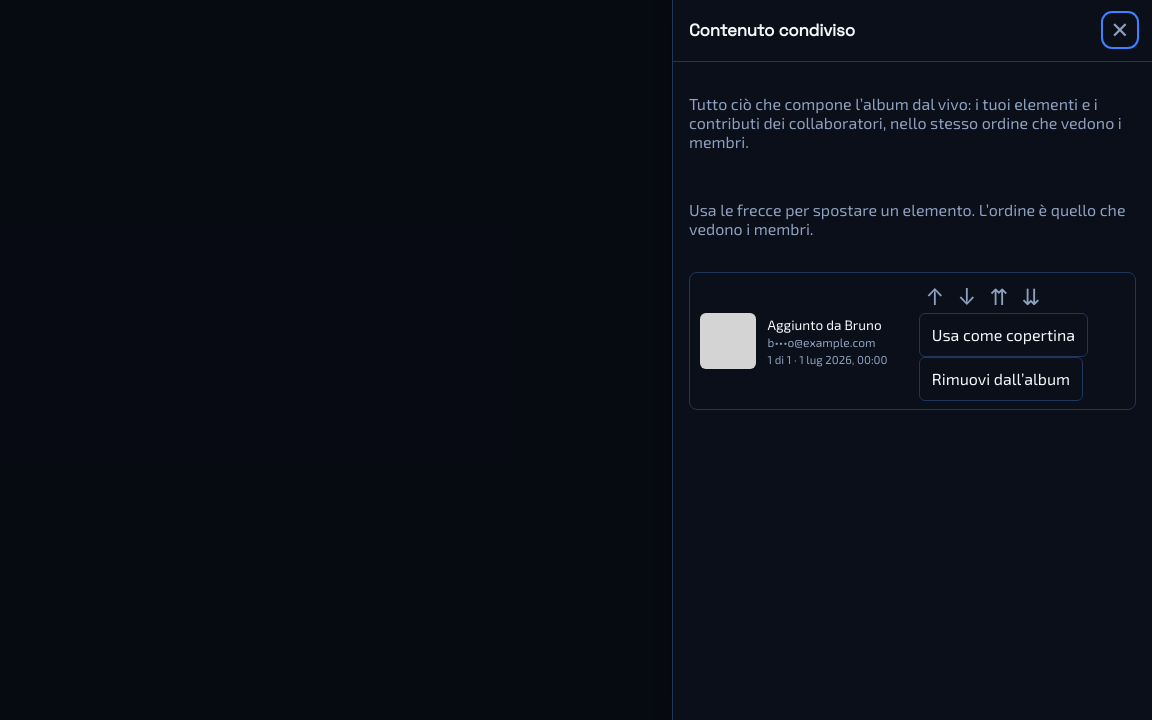
Test: AlbumSharedContentPanel — owner moderation › removes an item and refreshes
Click the button with test id "album-content-remove".
click(1001, 379)  # box [919, 357, 1083, 401]
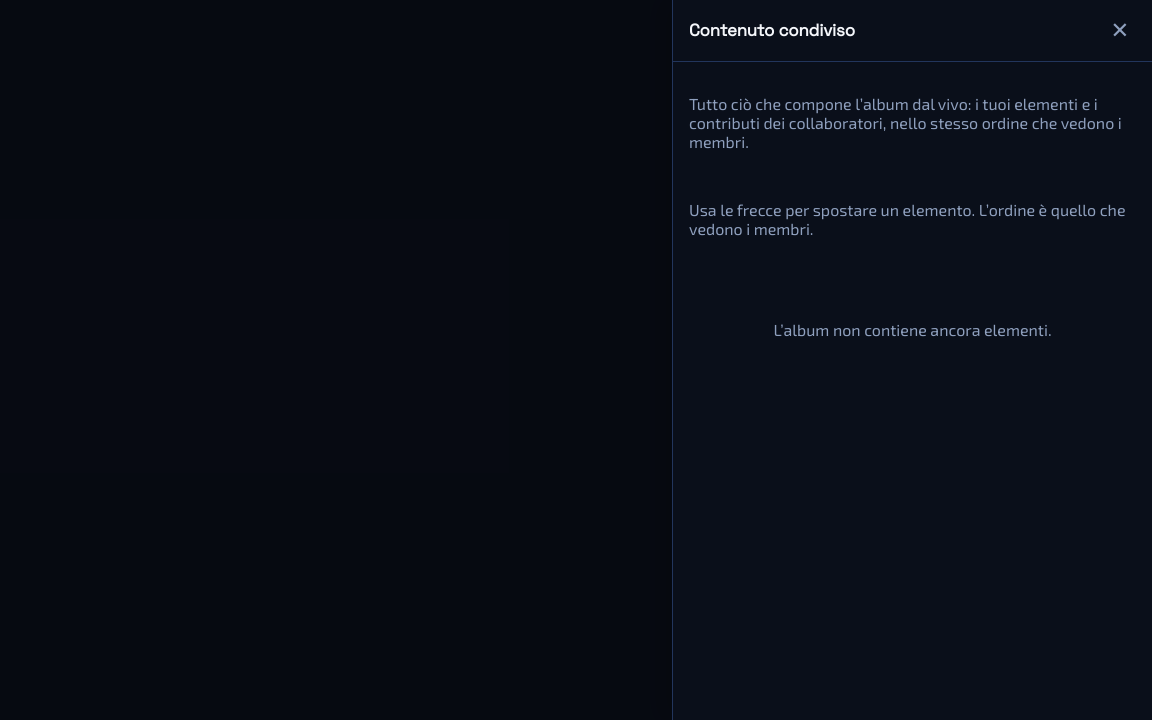
Result: the text "L’album non contiene ancora elementi." is shown at [773, 320, 1052, 339]
